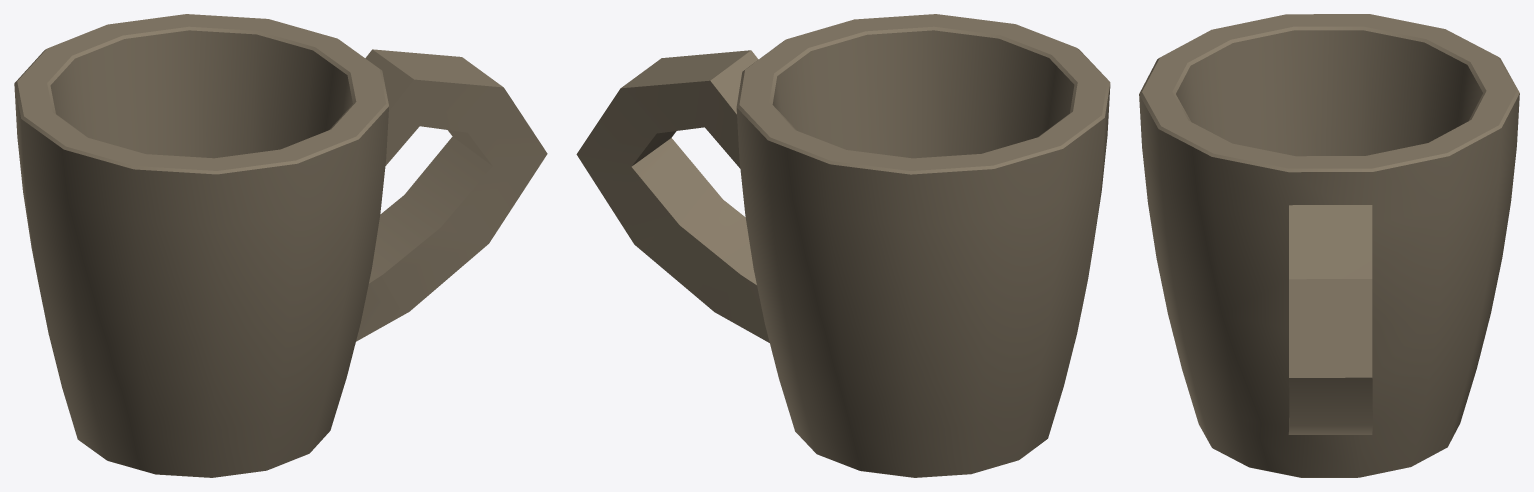
The model's file is Cup_04.fbx.
The picture shows the model from 3 angles, left to right: view 1: azimuth 30°, elevation 25°; view 2: azimuth 150°, elevation 25°; view 3: azimuth 270°, elevation 25°; orthographic projection.
Parts seen in each view (by area): view 1: Cup; view 2: Cup; view 3: Cup.
Boxes of the visible parts, x1=… form: Cup: x1=14, y1=14, x2=547, y2=477; Cup: x1=576, y1=14, x2=1110, y2=477; Cup: x1=1139, y1=14, x2=1519, y2=477.
Bounding box in the file's own units: 107 × 72.47 × 69.97.
